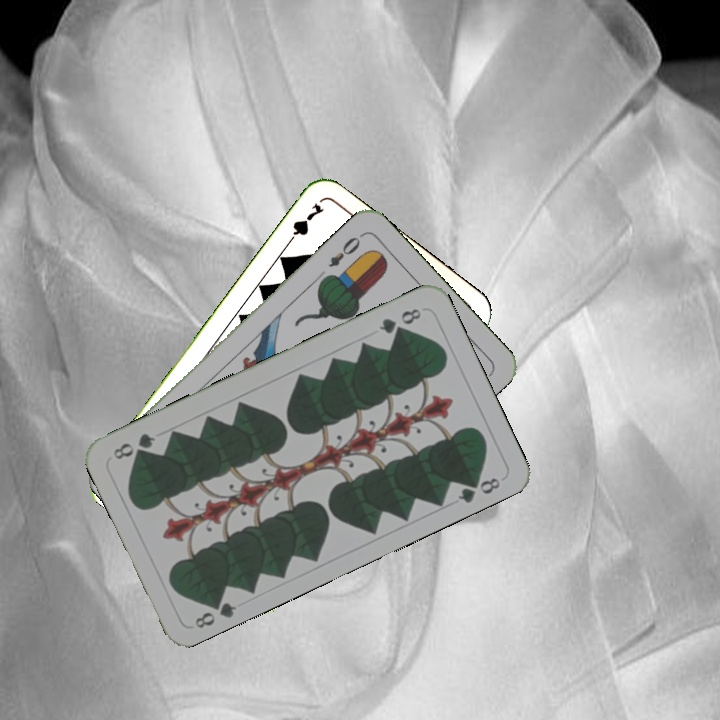EO: (324, 229, 366, 270)
G7: (281, 198, 327, 250)
G8: (190, 593, 239, 632), (374, 304, 424, 337)
